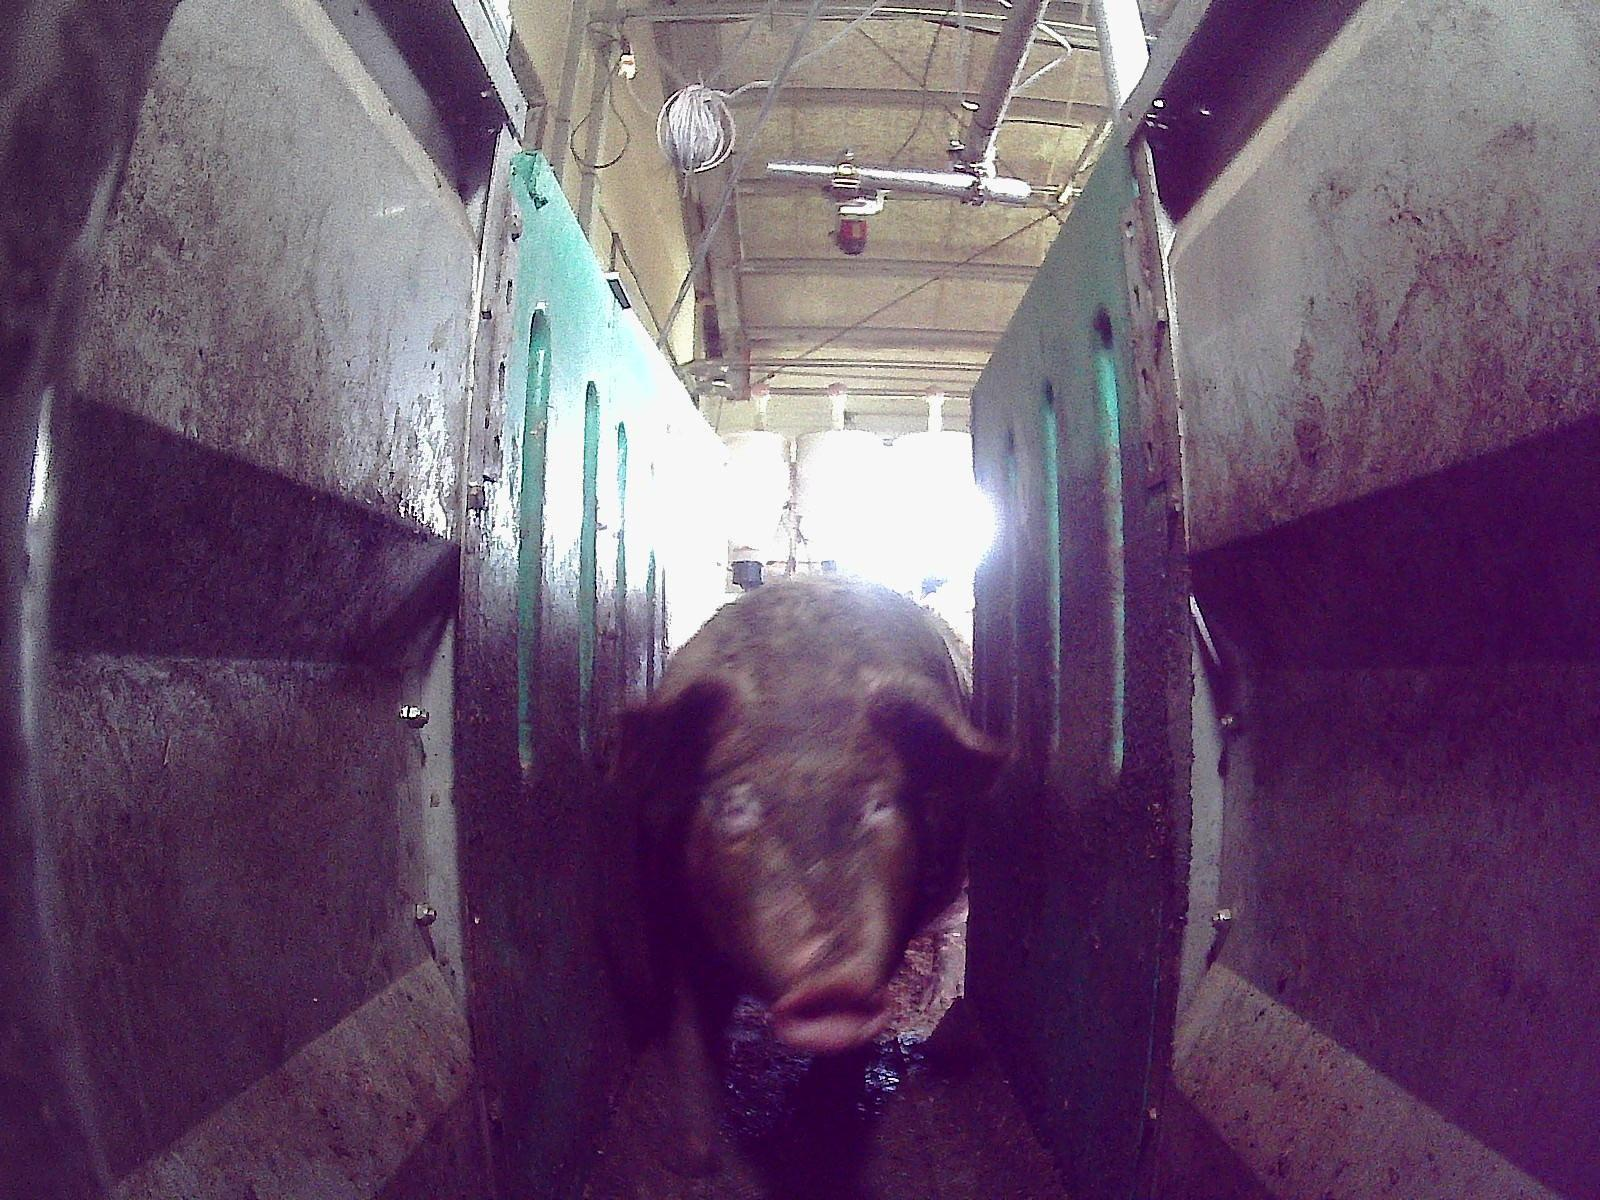Face: (665, 670, 925, 1054)
